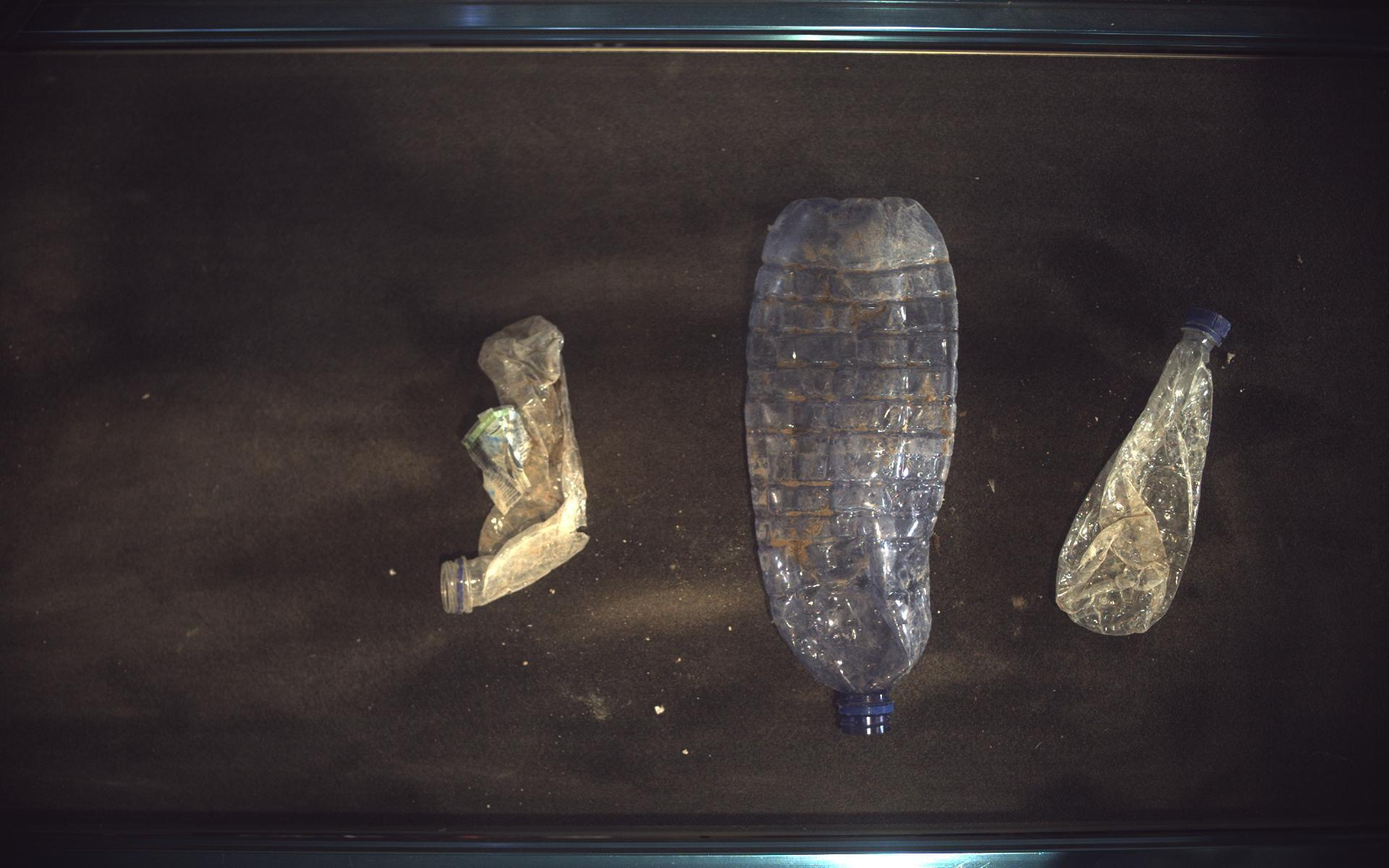general_w: (746, 197, 959, 736), (1058, 307, 1233, 636), (441, 316, 590, 615)
